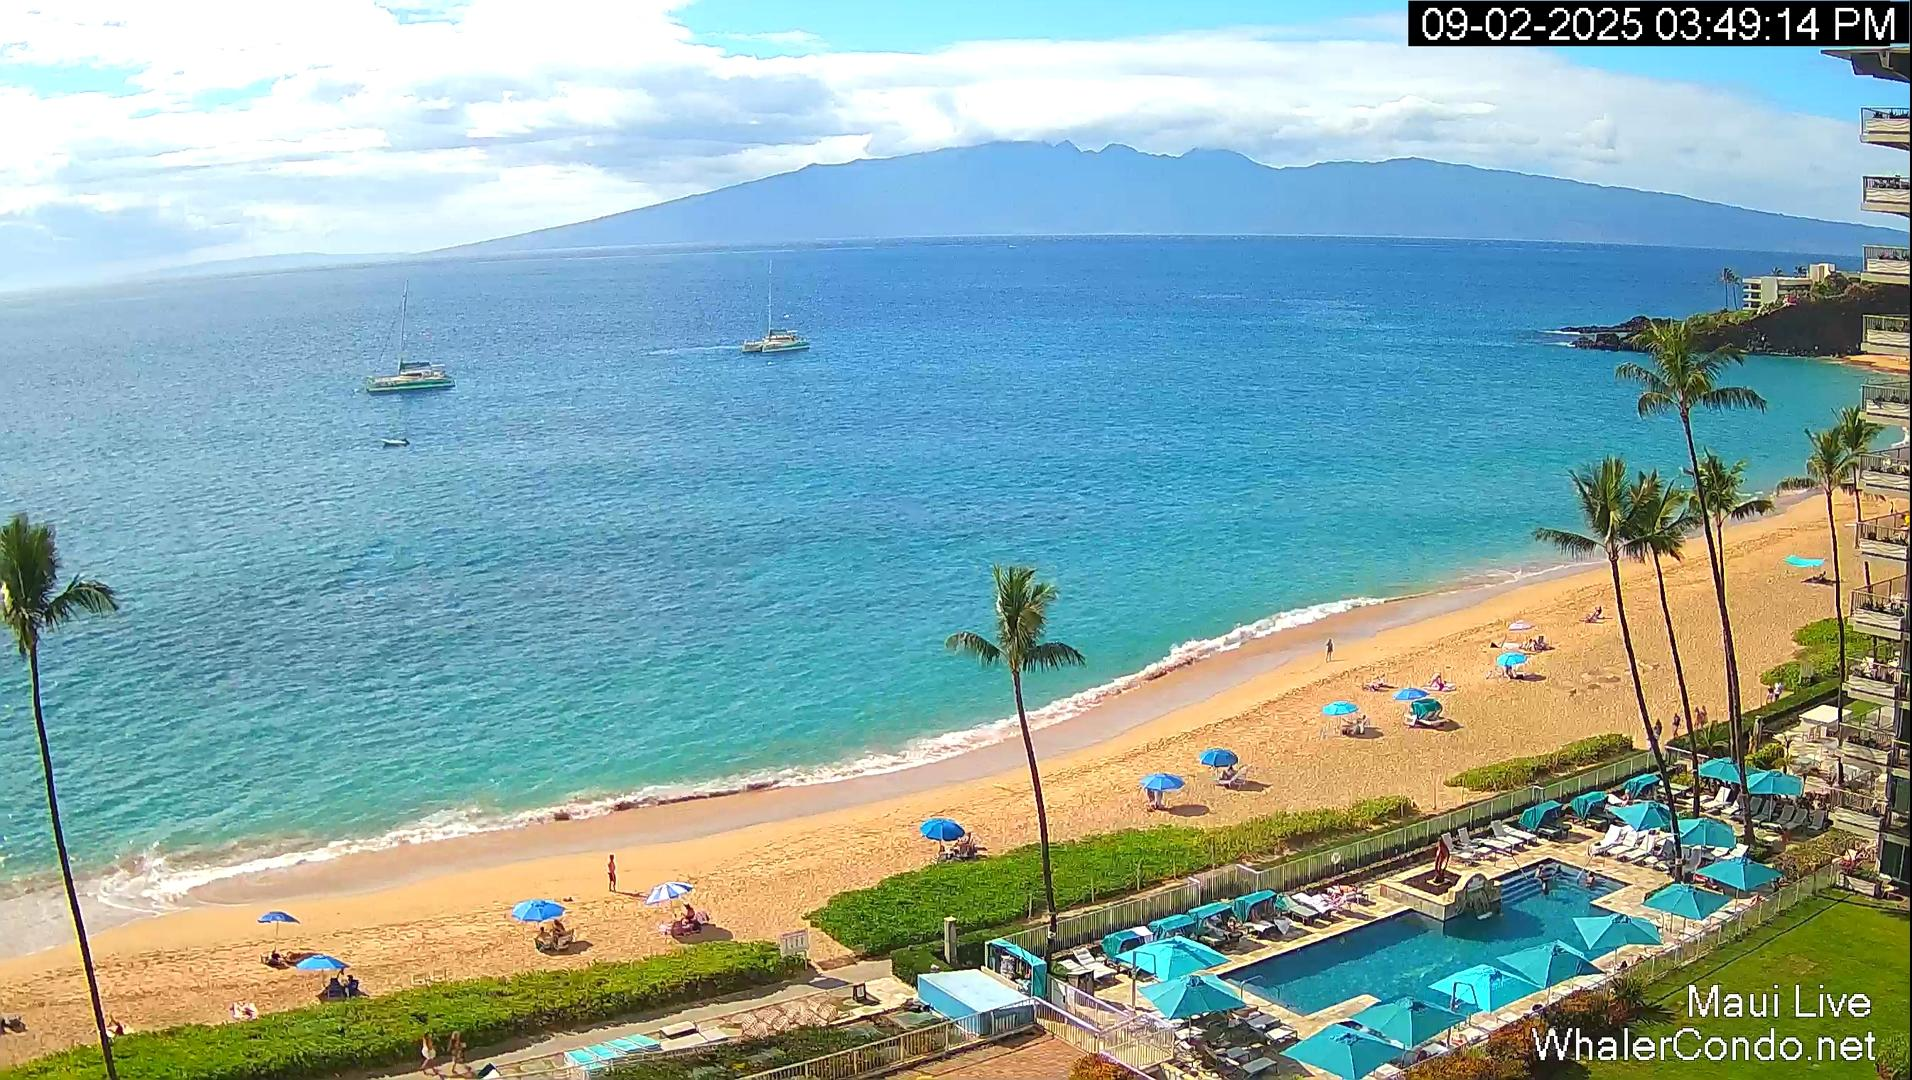boat: (365, 278, 456, 394), (740, 260, 811, 354), (382, 435, 411, 448)
person: (418, 1032, 438, 1072), (1874, 1052, 1902, 1080), (104, 1008, 127, 1041), (682, 902, 709, 926), (448, 1031, 466, 1064), (347, 975, 372, 998), (606, 854, 618, 893), (1429, 672, 1452, 691), (1582, 867, 1597, 894), (536, 926, 552, 947), (336, 974, 350, 997), (681, 902, 695, 923), (1650, 718, 1661, 744), (1355, 714, 1368, 734), (1220, 764, 1235, 780), (1325, 638, 1334, 663), (552, 919, 566, 935), (1701, 704, 1709, 732), (1695, 706, 1702, 736), (1672, 712, 1680, 738), (1535, 864, 1545, 882), (1556, 862, 1566, 879), (1766, 687, 1776, 703), (1544, 882, 1553, 899)
